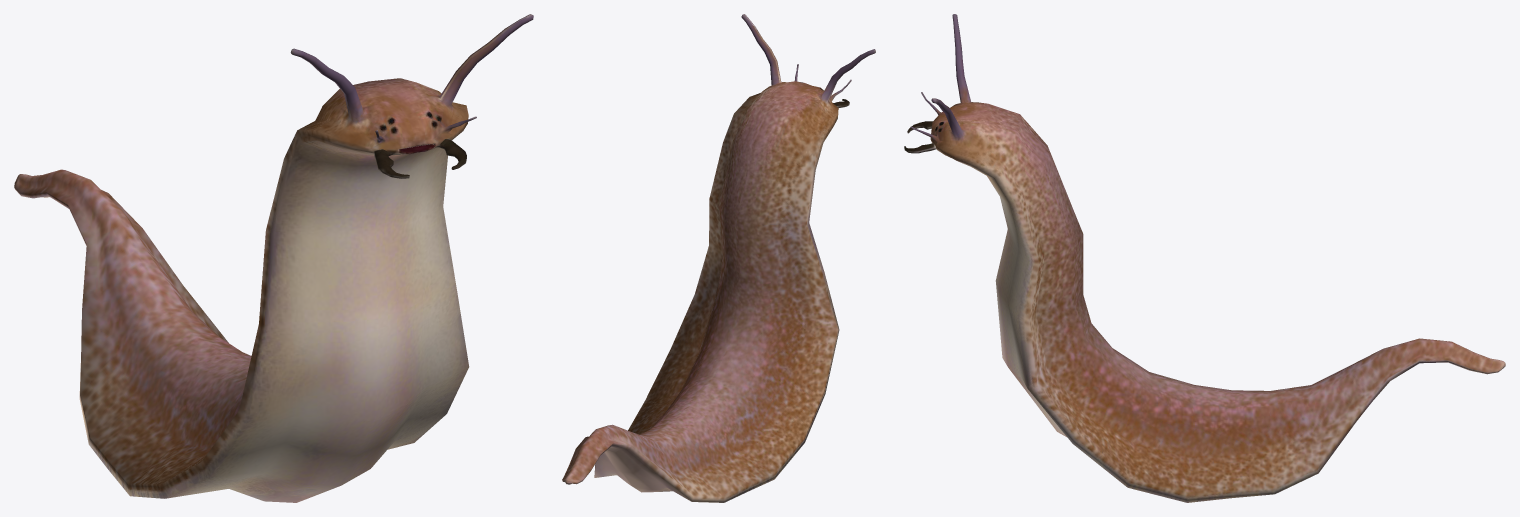
The model's file is LOWSlizen.FBX.
3 views of the same model, side by side, from view 1: azimuth 30°, elevation 25°; view 2: azimuth 150°, elevation 25°; view 3: azimuth 270°, elevation 25° (orthographic). The views are drawn at different scales.
Parts seen in each view (by area): view 1: Slizen; view 2: Slizen; view 3: Slizen.
Part boxes in pixels (box(x1,y1,x2,y2)): Slizen: box(14, 14, 533, 502); Slizen: box(562, 14, 875, 502); Slizen: box(904, 14, 1505, 502).
Bounding box in the file's own units: 16.33 × 35.89 × 46.58.
